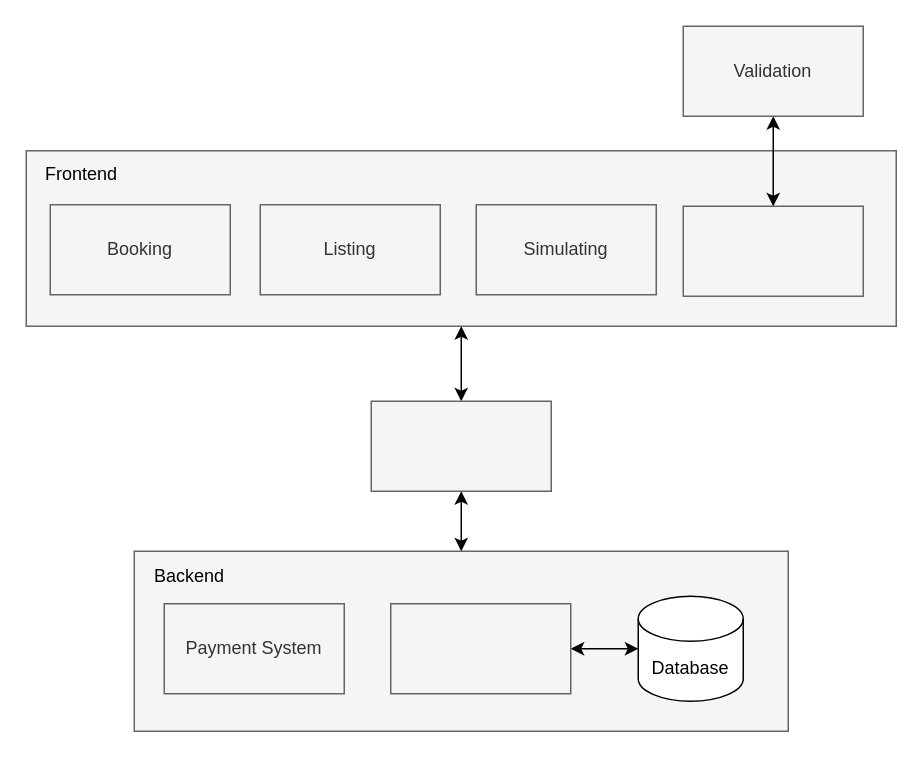
This 923x758 diagram has some shape labels left out. Here are the shapes that lost their labels. From the top down, the centre of each, then its label:
At [772,250]: "Registrating".
At [460,445]: "Encryption / decryption".
At [480,648]: "Identification & authentication".
